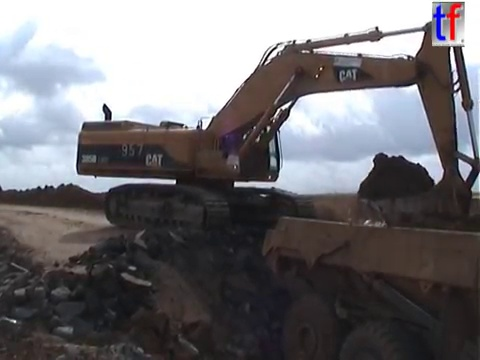excavator: (72, 13, 479, 246)
truck: (258, 196, 480, 360)
